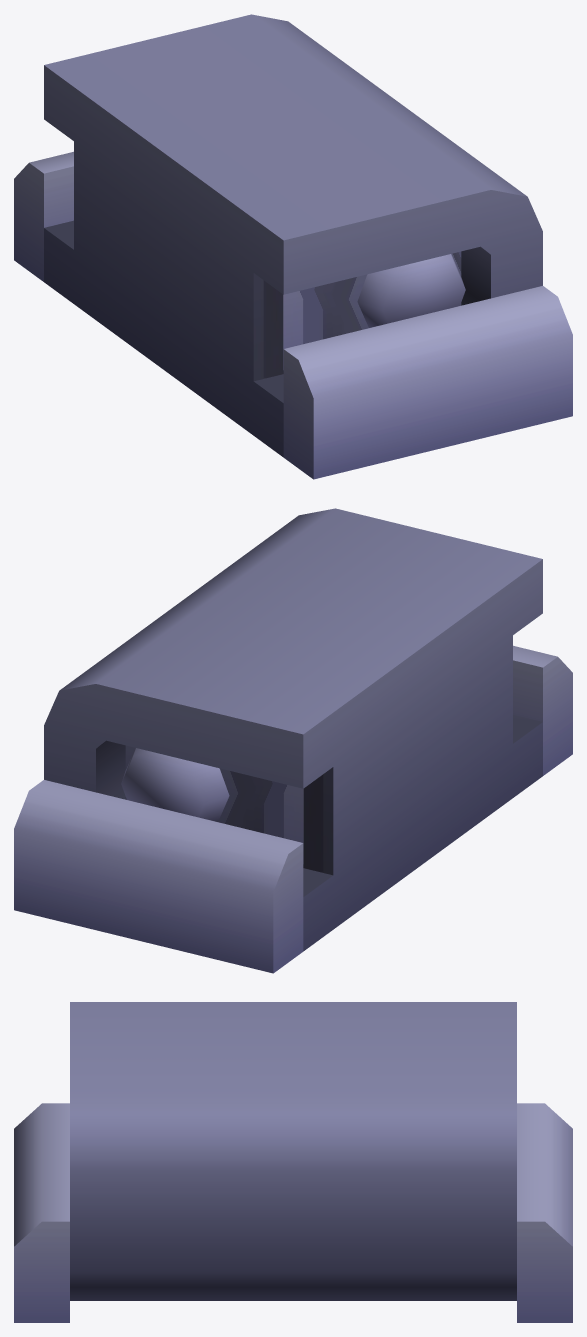
File: kenney-factory-conveyor-long-sides-part-end.glb
3 views of the same model, one above another, from view 1: azimuth 30°, elevation 25°; view 2: azimuth 150°, elevation 25°; view 3: azimuth 270°, elevation 25° (orthographic). The views are drawn at different scales.
Parts seen in each view (by area): view 1: conveyor-long-sides-part-end; view 2: conveyor-long-sides-part-end; view 3: conveyor-long-sides-part-end.
Boxes of the visible parts, x1,y1,x2,y2 form: conveyor-long-sides-part-end: (14, 14, 572, 479); conveyor-long-sides-part-end: (14, 508, 572, 973); conveyor-long-sides-part-end: (14, 1002, 572, 1322).
Size of the model in its own units: 0.5001 by 0.3999 by 1.
Materials: 1 (1 with a texture image).
